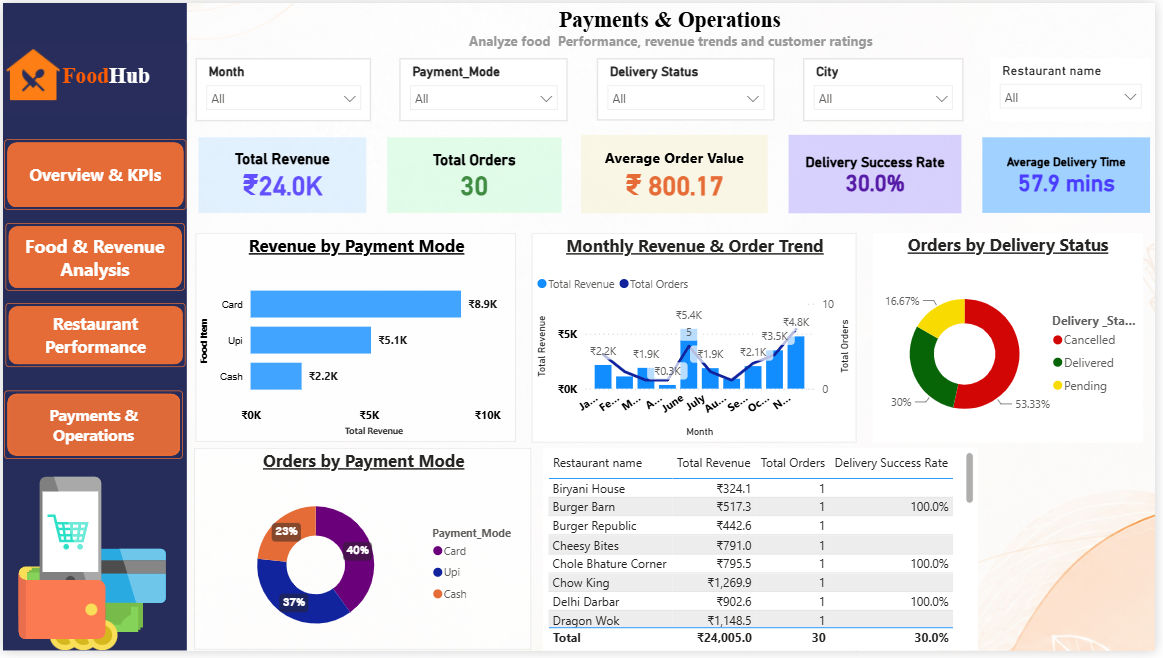

The dashboard page shown, as its layout file describes it:
{"tool":"powerbi","page":{"name":" Payments & Operations ","canvas":[1280,720],"ordinal":3},"visuals":[{"type":"shape","box":[0,0,204.4,719.4],"z":0},{"type":"slicer","fields":{"Values":["Order_detail.Order_Date.Variation.Date Hierarchy.Month"]},"box":[214,61.4,195.5,70.6],"z":0,"group":"g3"},{"type":"cardVisual","title":"Top Revenue Food","fields":{"Data":["Order_detail.Delivery Success Rate"]},"box":[868.6,142.2,202.4,97.2],"z":0,"group":"g4"},{"type":"textbox","box":[212.8,0,1063,60.1],"z":1000},{"type":"slicer","fields":{"Values":["Order_detail.Payment_Mode"]},"box":[440.7,61.1,187.4,70.6],"z":1000,"group":"g3"},{"type":"cardVisual","fields":{"Data":["Order_detail.Total Orders"]},"box":[422.2,144.3,203.6,94.8],"z":1000,"group":"g4"},{"type":"slicer","fields":{"Values":["Order_detail.Delivery _Status"]},"box":[659.3,61.4,197.8,69.4],"z":2000,"group":"g3"},{"type":"cardVisual","fields":{"Data":["Order_detail.Average Order Value"]},"box":[638.5,142,217.5,97.2],"z":2000,"group":"g4"},{"type":"clusteredBarChart","title":"Revenue by Payment  Mode","fields":{"Category":["Order_detail.Payment_Mode"],"Y":["Order_detail.Total Revenue"]},"box":[214,255.6,356.3,232.2],"z":2000,"group":"g1"},{"type":"donutChart","title":"Orders by Payment Mode","fields":{"Y":["Order_detail.Total Orders"],"Category":["Order_detail.Payment_Mode"]},"box":[212.8,495.1,374.8,224.4],"z":2000},{"type":"textbox","title":"FoodHub","box":[0,43.9,204.9,80.5],"z":3000},{"type":"slicer","fields":{"Values":["Restaurants_Details.City"]},"box":[888.4,61,178.1,70.6],"z":3000,"group":"g3"},{"type":"cardVisual","fields":{"Data":["Order_detail.Total Revenue"]},"box":[212.8,144.3,196.6,94.8],"z":3000,"group":"g4"},{"type":"image","box":[2.3,44,61.3,72.9],"z":4000},{"type":"slicer","fields":{"Values":["Restaurants_Details.Restaurant name"]},"box":[1097.7,61.4,178.1,70.6],"z":4000,"group":"g3"},{"type":"cardVisual","fields":{"Data":["Order_detail.Average Delivery Time"]},"box":[1083.3,144.5,196.6,94.8],"z":4000,"group":"g4"},{"type":"group","id":"g1","title":"Group 4","box":[214,255.6,1053,233.4],"z":5000},{"type":"group","id":"g2","title":"Group 2","box":[2,151,202.4,355.1],"z":6000},{"type":"actionButton","box":[2,151,202.4,78.7],"z":6000,"group":"g2"},{"type":"actionButton","box":[2.8,244.3,199,75.5],"z":6250,"group":"g2"},{"type":"group","id":"g3","title":"Group 3","box":[214,61,1061.8,70.9],"z":7000},{"type":"group","id":"g4","title":"Group 1","box":[212.8,142,1067.2,97.4],"z":8000},{"type":"tableEx","fields":{"Values":["Restaurants_Details.Restaurant name","Order_detail.Total Revenue","Order_detail.Total Orders","Order_detail.Delivery Success Rate"]},"box":[600,494.4,483.3,225],"z":9000},{"type":"lineStackedColumnComboChart","title":"Monthly Revenue & Order Trend","fields":{"Category":["Order_detail.Order_Date.Variation.Date Hierarchy.Month"],"Y":["Order_detail.Total Revenue"],"Y2":["Order_detail.Total Orders"]},"box":[588.2,256.1,361,232.9],"z":11000,"group":"g1"},{"type":"donutChart","title":"Orders by Delivery Status ","fields":{"Y":["Order_detail.Total Orders"],"Category":["Order_detail.Delivery _Status"]},"box":[967,255.6,300,233],"z":12000,"group":"g1"},{"type":"actionButton","box":[2.8,333.6,200.3,71.4],"z":12000,"group":"g2"},{"type":"actionButton","title":"Payments  &","box":[2.4,430.5,198.8,75.6],"z":12500,"group":"g2"}]}

Visuals, with their boxes in screenshot pixels (x1, y1, x2, y2), scaled from the page's 1280x720 canvas onto the 1163x658 screenshot:
shape: bbox(0, 0, 186, 657)
slicer - Order_detail.Order_Date.Variation.Date Hierarchy.Month: bbox(194, 56, 372, 121)
"Top Revenue Food" cardVisual: bbox(789, 130, 973, 219)
textbox: bbox(193, 0, 1159, 55)
slicer - Order_detail.Payment_Mode: bbox(400, 56, 571, 120)
cardVisual - Order_detail.Total Orders: bbox(384, 132, 569, 219)
slicer - Order_detail.Delivery _Status: bbox(599, 56, 779, 120)
cardVisual - Order_detail.Average Order Value: bbox(580, 130, 778, 219)
"Revenue by Payment  Mode" clusteredBarChart: bbox(194, 234, 518, 446)
"Orders by Payment Mode" donutChart: bbox(193, 452, 534, 657)
"FoodHub" textbox: bbox(0, 40, 186, 114)
slicer - Restaurants_Details.City: bbox(807, 56, 969, 120)
cardVisual - Order_detail.Total Revenue: bbox(193, 132, 372, 219)
image: bbox(2, 40, 58, 107)
slicer - Restaurants_Details.Restaurant name: bbox(997, 56, 1159, 121)
cardVisual - Order_detail.Average Delivery Time: bbox(984, 132, 1162, 219)
"Group 4" group: bbox(194, 234, 1151, 447)
"Group 2" group: bbox(2, 138, 186, 463)
actionButton: bbox(2, 138, 186, 210)
actionButton: bbox(3, 223, 183, 292)
"Group 3" group: bbox(194, 56, 1159, 121)
"Group 1" group: bbox(193, 130, 1162, 219)
tableEx - Restaurants_Details.Restaurant name x Order_detail.Total Revenue: bbox(545, 452, 984, 657)
"Monthly Revenue & Order Trend" lineStackedColumnComboChart: bbox(534, 234, 862, 447)
"Orders by Delivery Status " donutChart: bbox(879, 234, 1151, 447)
actionButton: bbox(3, 305, 185, 370)
"Payments  &" actionButton: bbox(2, 393, 183, 463)
